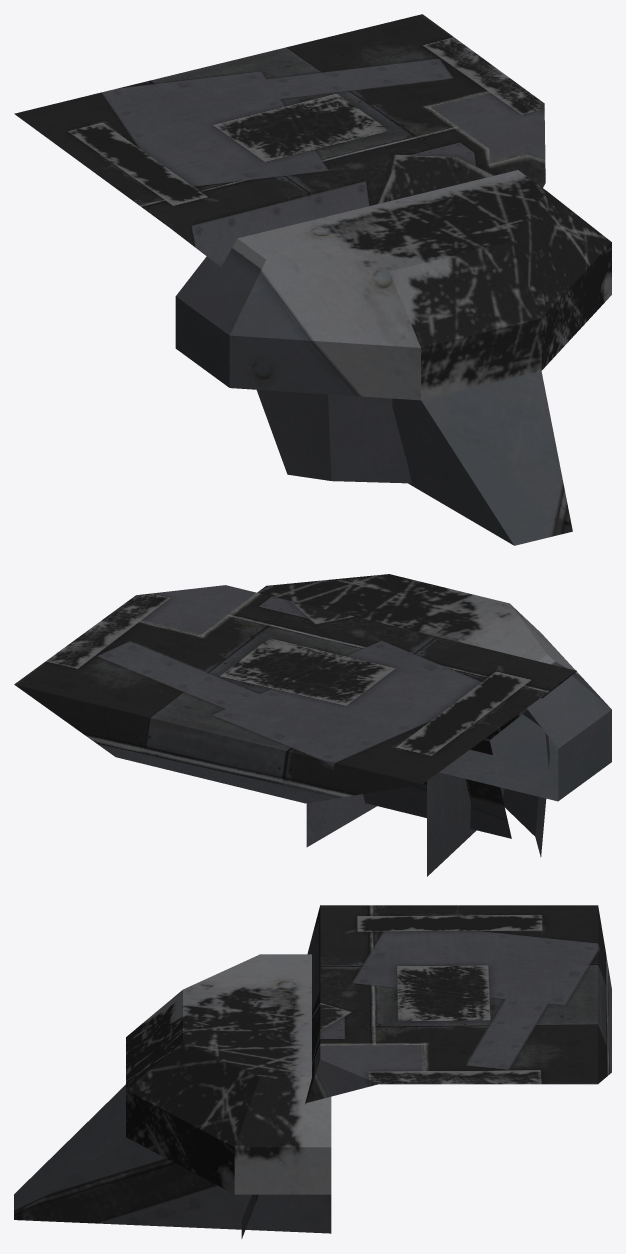
Rendered from HCD8.fbx.
The picture shows the model from 3 angles, top to bottom: view 1: azimuth 30°, elevation 25°; view 2: azimuth 150°, elevation 25°; view 3: azimuth 270°, elevation 25°; orthographic projection. The views are drawn at different scales.
Visible parts, largest first — view 1: eightD; view 2: eightD; view 3: eightD.
Part boxes in pixels (bbox=[...]): eightD: bbox=[14, 14, 611, 545]; eightD: bbox=[14, 574, 611, 876]; eightD: bbox=[14, 905, 611, 1238].
Size of the model in its own units: 4265 by 2361 by 6022.
1 material, 1 textured.
